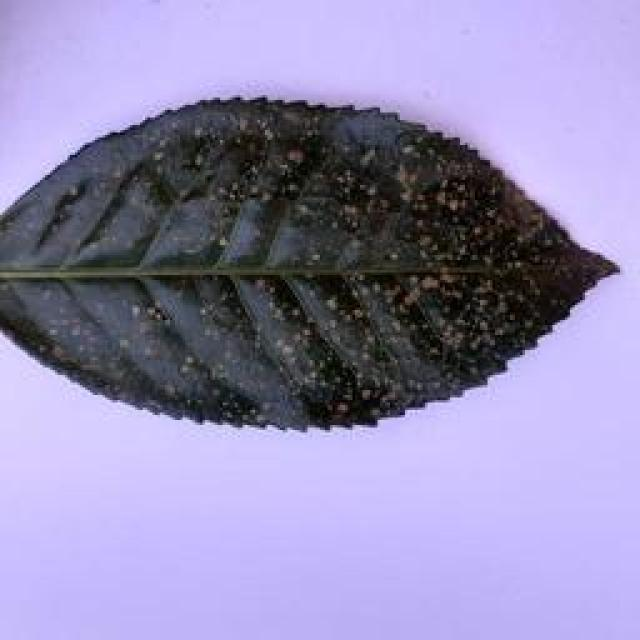Algal Leaf Spot: (7, 86, 630, 447)
